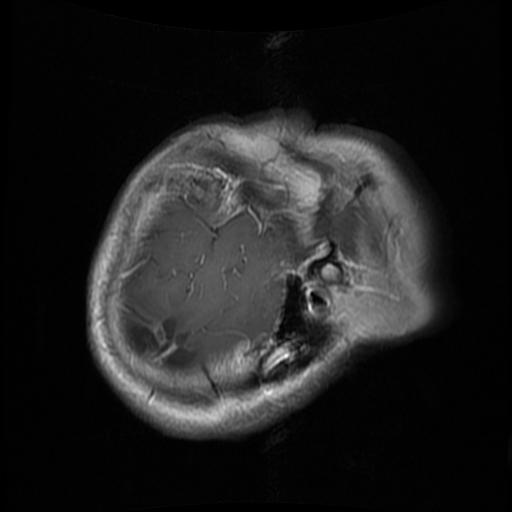glioma: (125, 314, 200, 371)
